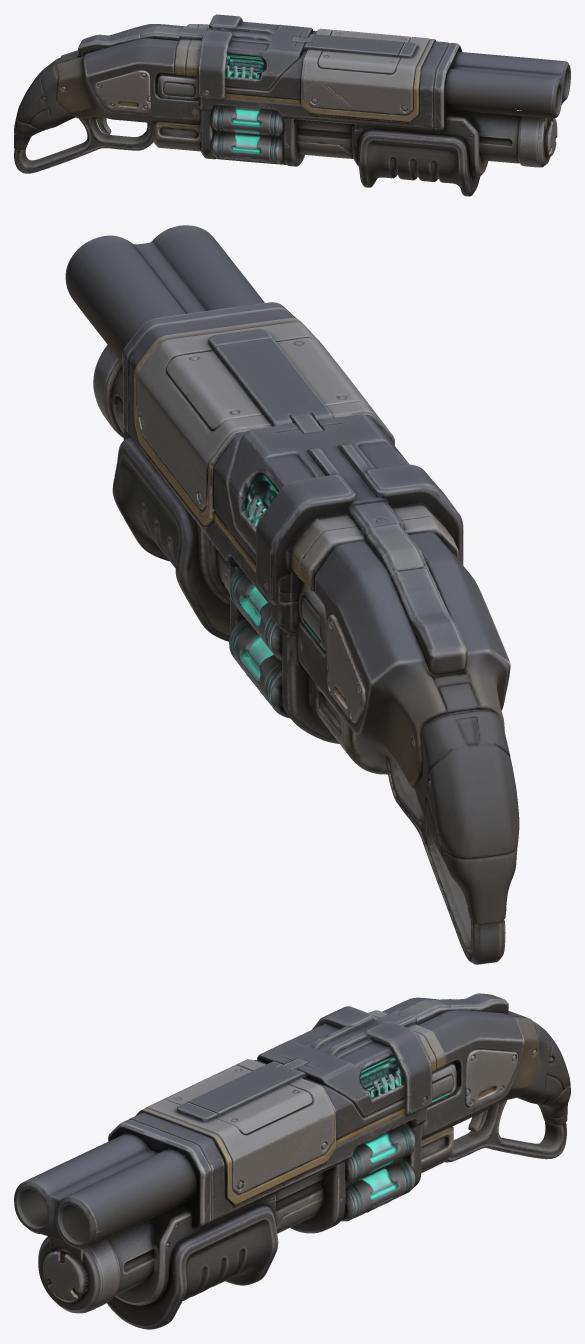
File: shotgun.glb
3 views of the same model, one above another, from view 1: azimuth 30°, elevation 25°; view 2: azimuth 150°, elevation 25°; view 3: azimuth 270°, elevation 25° (orthographic). The views are drawn at different scales.
Visible parts, largest first — view 1: tripo_node_67165eb5-d725-40ca-a7ba-07894f39830d; view 2: tripo_node_67165eb5-d725-40ca-a7ba-07894f39830d; view 3: tripo_node_67165eb5-d725-40ca-a7ba-07894f39830d.
Part boxes in pixels (x1,y1,x2,y2): tripo_node_67165eb5-d725-40ca-a7ba-07894f39830d: [14, 14, 570, 196]; tripo_node_67165eb5-d725-40ca-a7ba-07894f39830d: [65, 225, 519, 964]; tripo_node_67165eb5-d725-40ca-a7ba-07894f39830d: [14, 993, 570, 1329].
Bounding box in the file's own units: 0.7842 × 0.3093 × 0.7145.
1 material, 1 textured.
